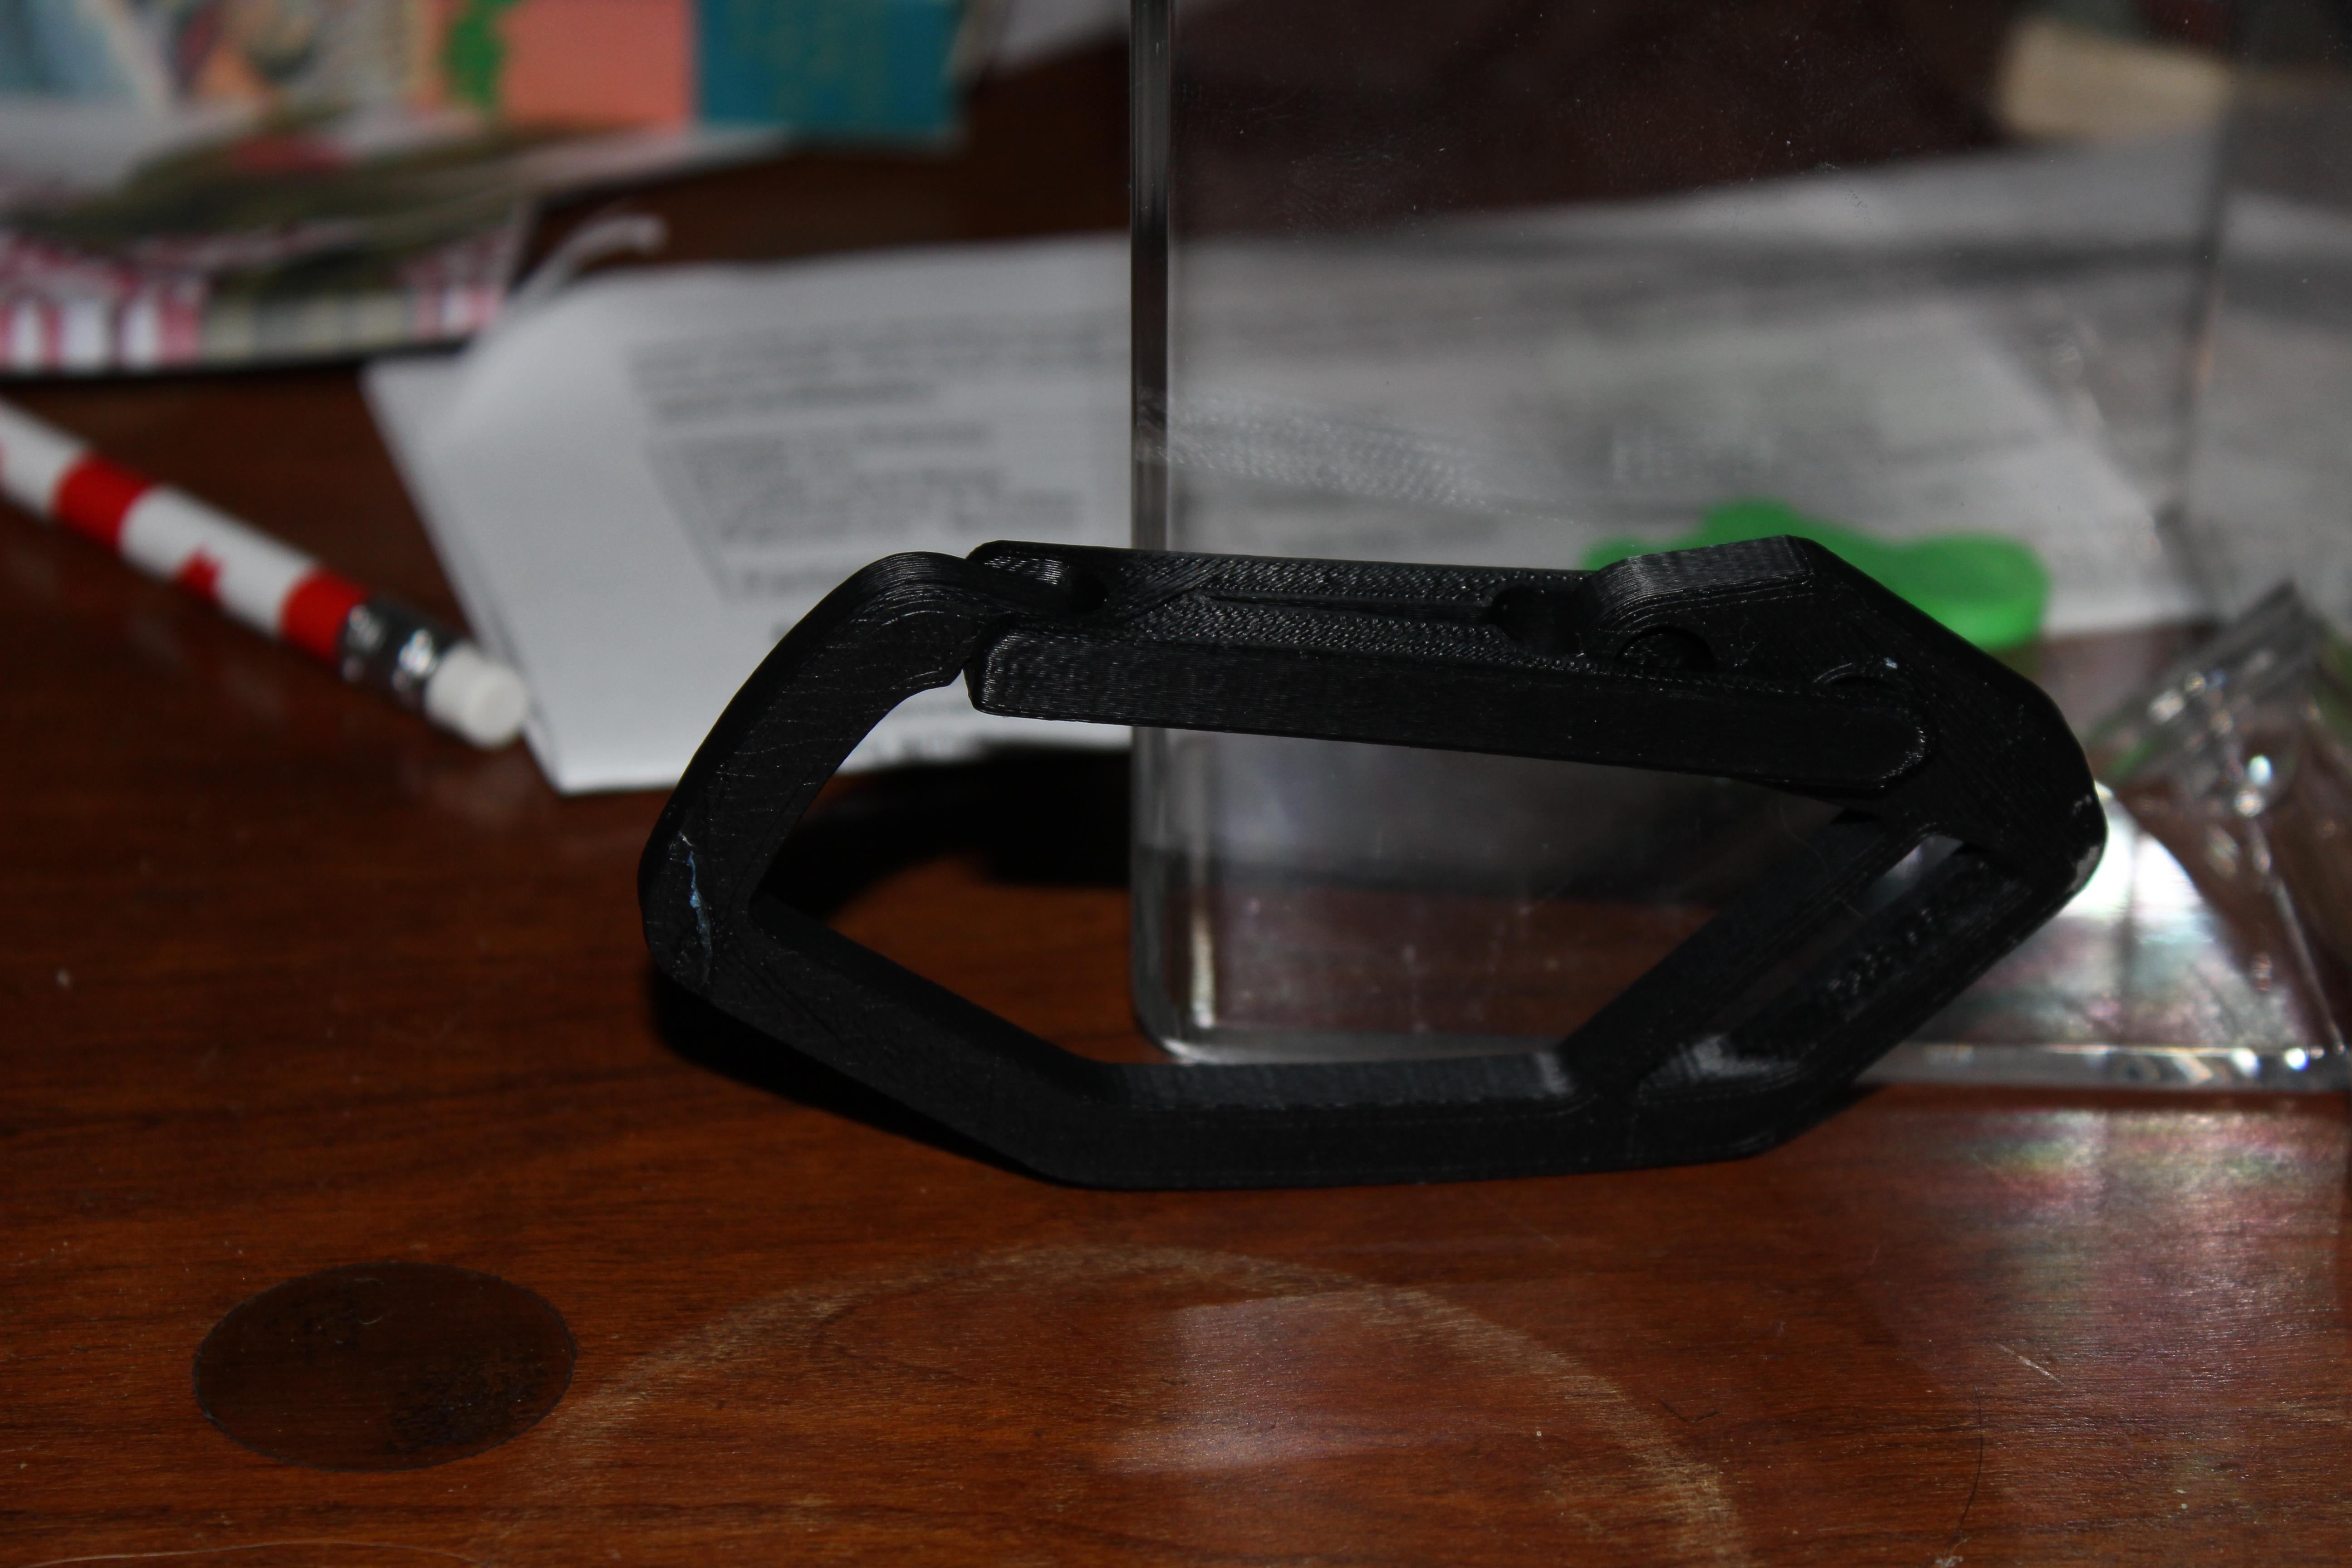carabiner: (621, 485, 2119, 1265)
